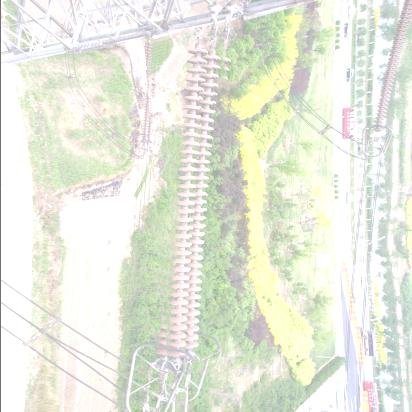insulator: (151, 28, 241, 362)
